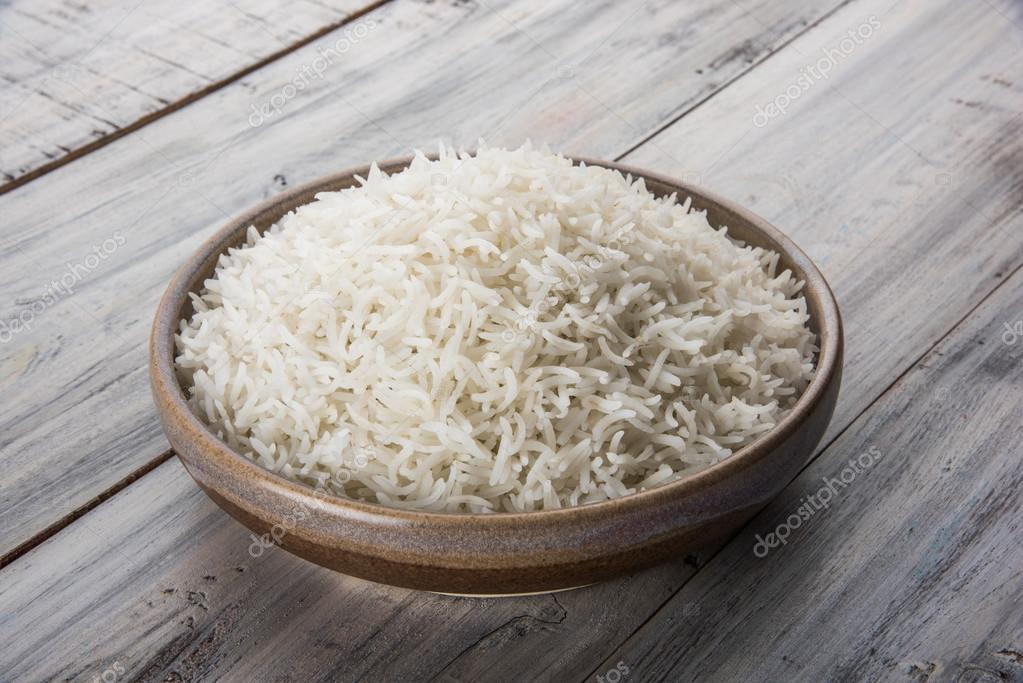rice: (157, 146, 831, 521)
